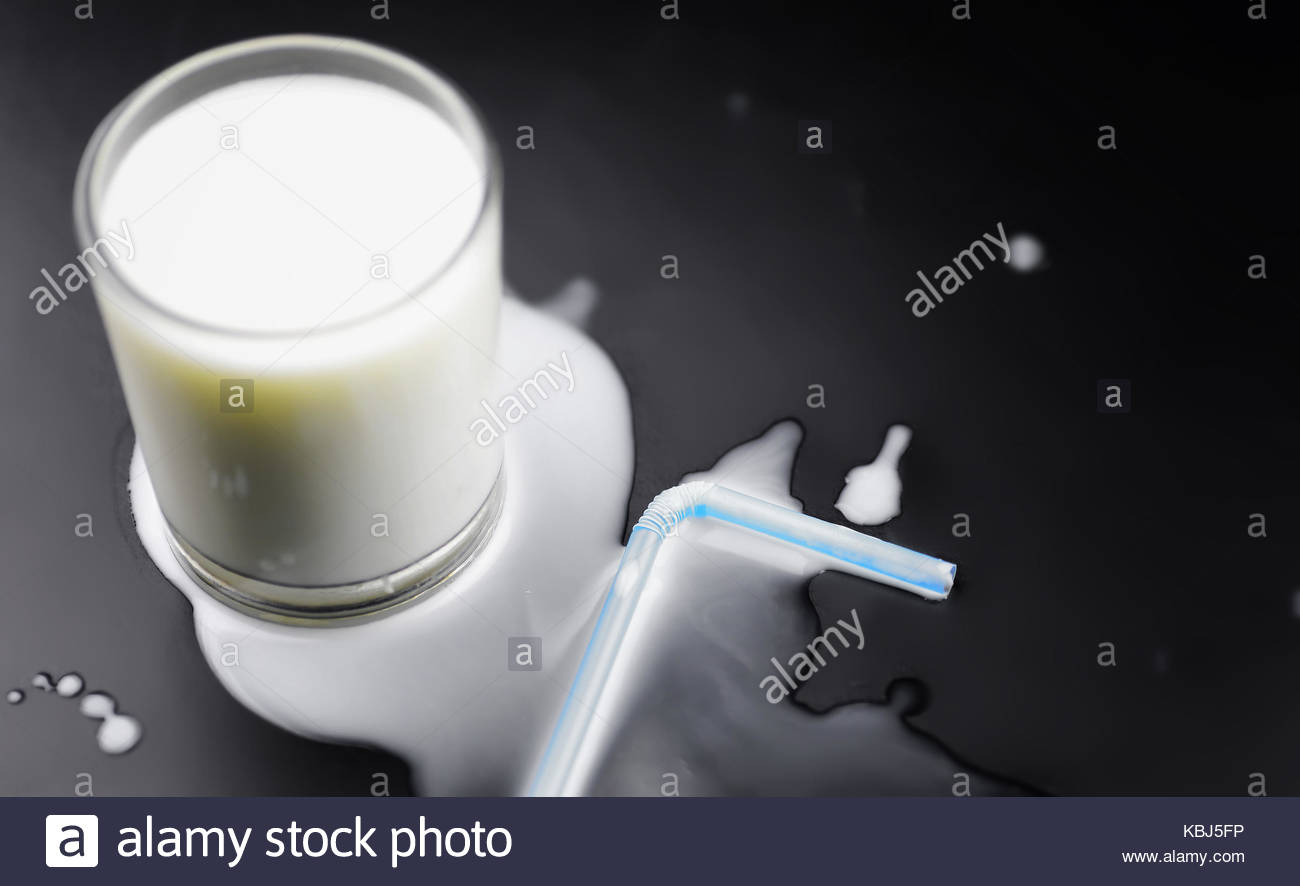glass of milk: (77, 86, 500, 570)
